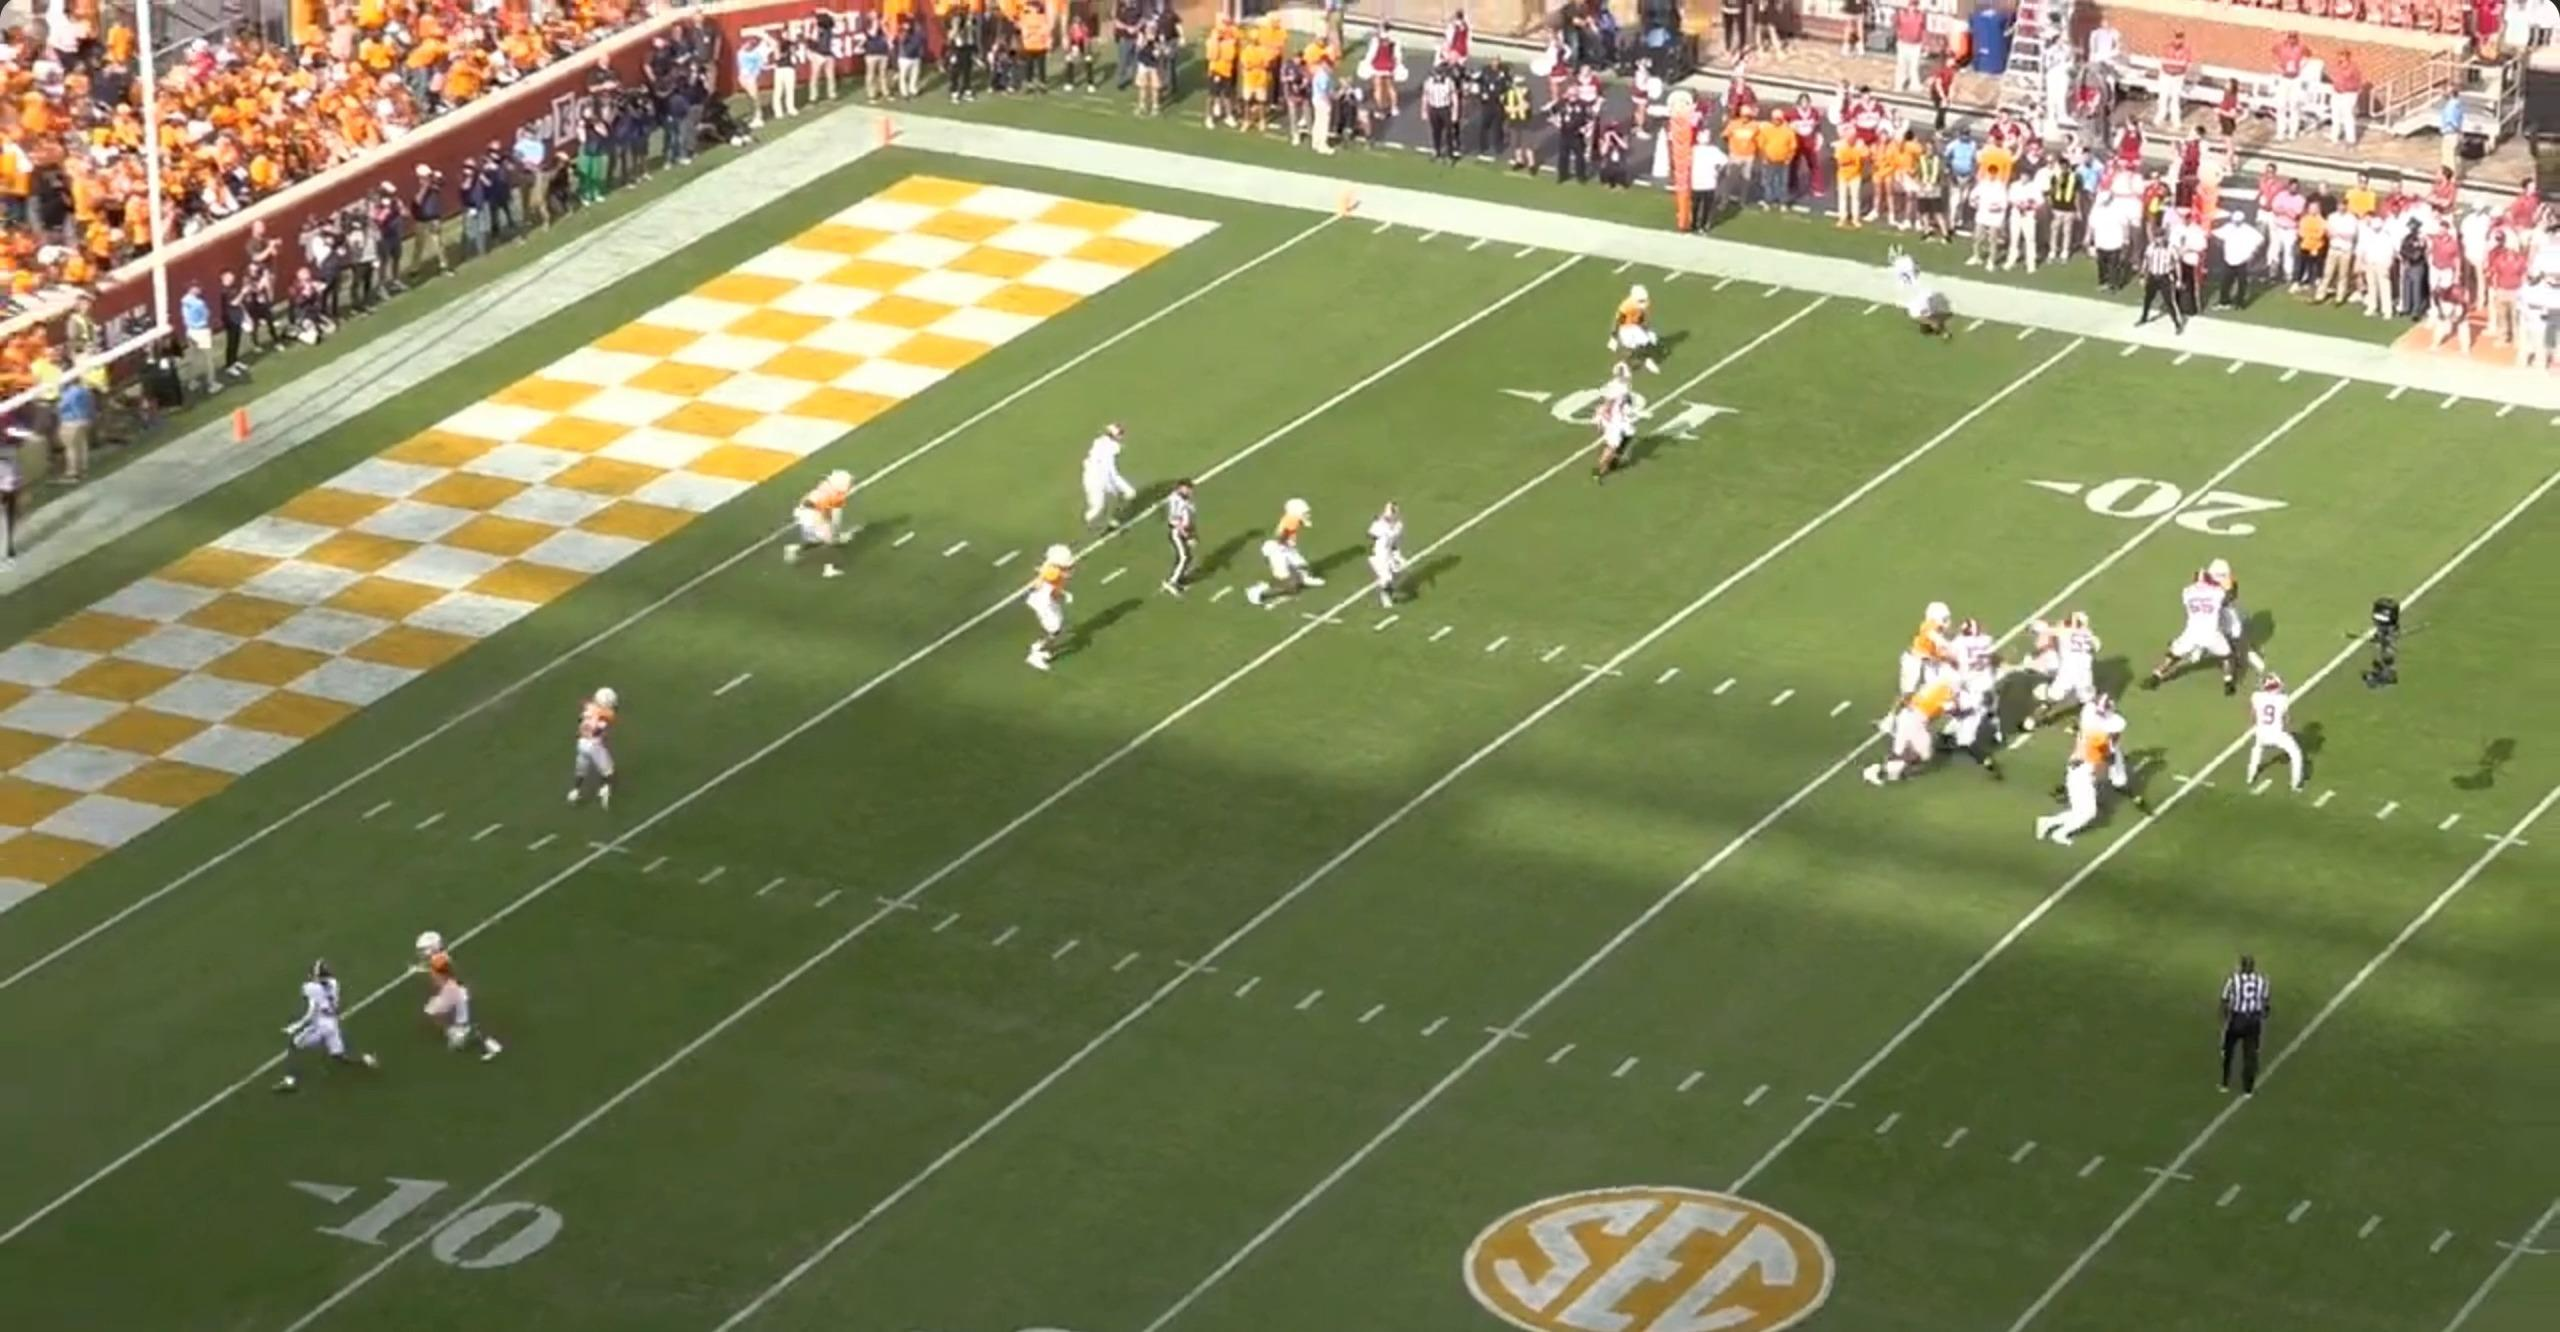defense: (396, 931, 498, 1070), (2044, 730, 2127, 853), (1875, 672, 1954, 795), (789, 470, 863, 588), (1259, 493, 1332, 608), (558, 686, 619, 815), (1023, 548, 1082, 677), (1608, 282, 1671, 383), (1904, 598, 1956, 699), (2030, 609, 2105, 678), (2186, 555, 2237, 596)
oline: (2146, 576, 2246, 698), (2024, 615, 2107, 740), (1935, 665, 2012, 788), (2075, 687, 2140, 816), (1942, 617, 2003, 740)
qb: (2232, 670, 2305, 796)
ref: (2214, 948, 2286, 1099), (2124, 223, 2183, 337), (1169, 474, 1213, 591), (4, 442, 37, 569)
skill: (284, 953, 388, 1087), (1584, 368, 1645, 488), (1087, 424, 1147, 541), (1883, 242, 1951, 341), (1369, 499, 1421, 610)
